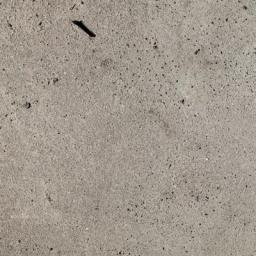FOD: (72, 18, 102, 44)
